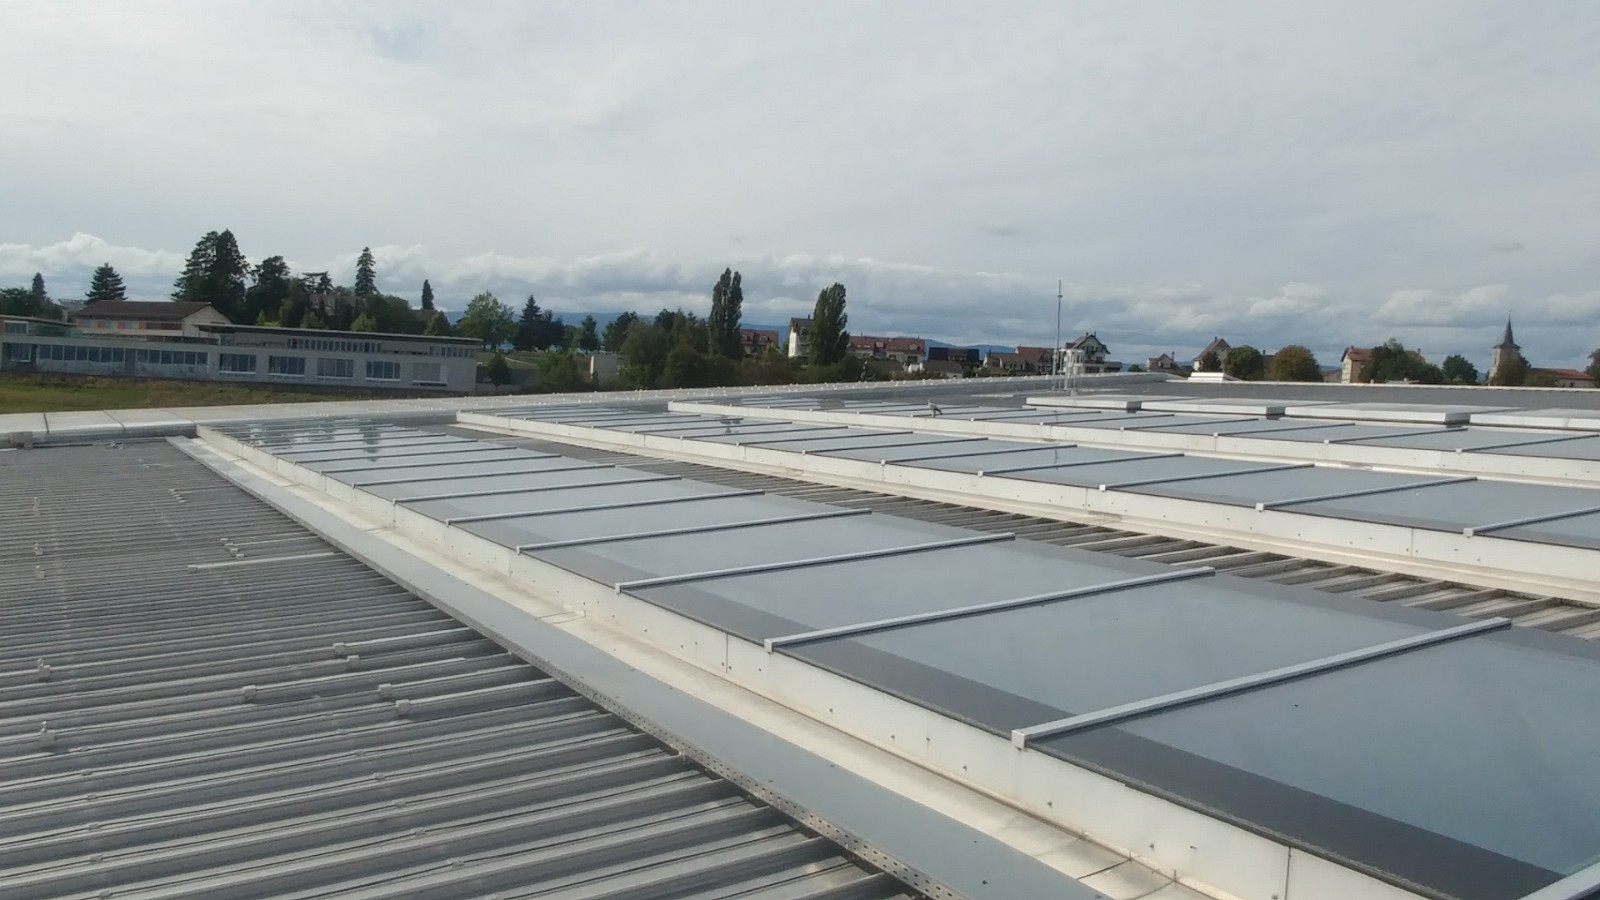Pigeon: (926, 397, 945, 419)
